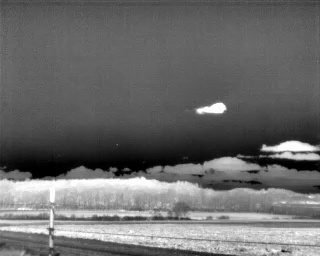DRONE: (193, 97, 229, 120)
